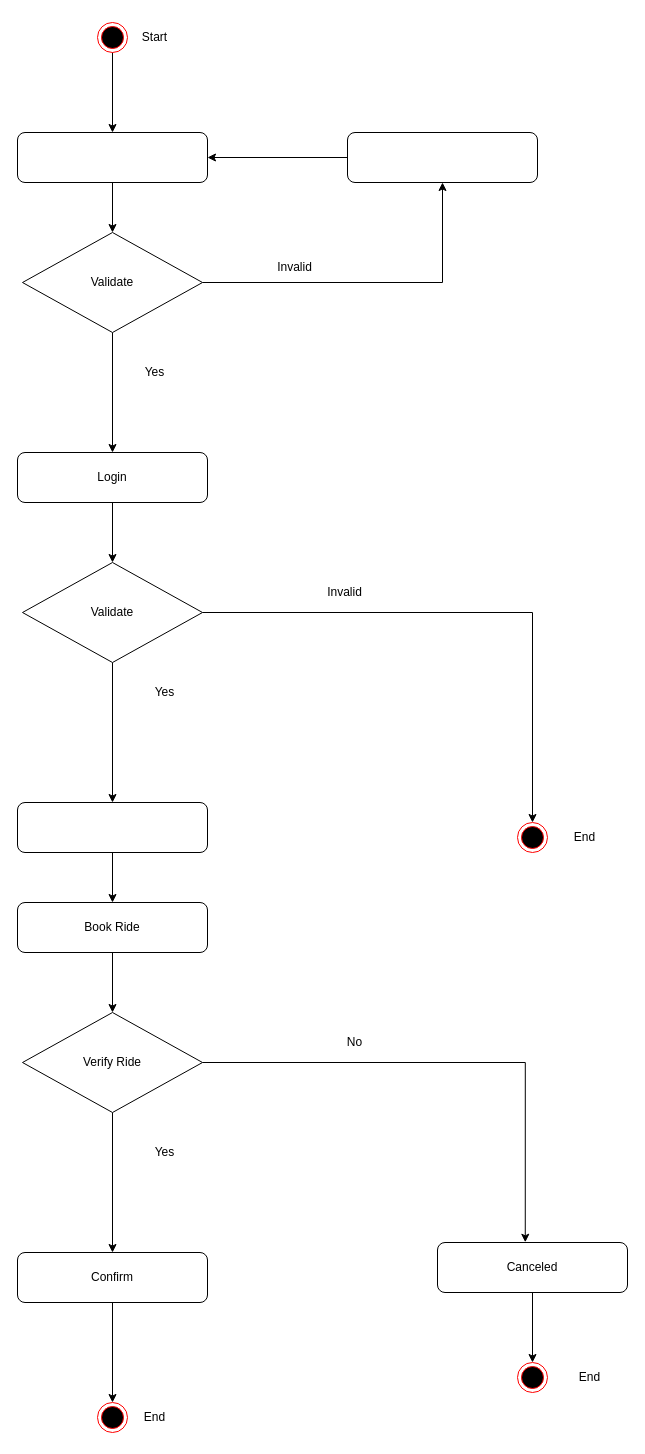
Some shapes in this 645 by 1454 pixel diagram are drawn without their labels. The shapes that lost their labels are listed below. From the top down, each one's centre as x and y in pixels, then its label:
At point 112,157: "Registration".
At point 442,157: "Re Enter Details".
At point 112,827: "Search Ride".
